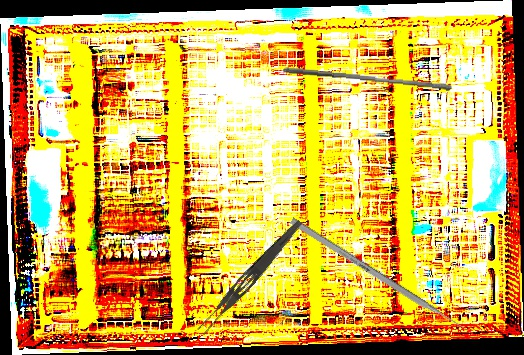Dressing Forceps: (194, 214, 305, 339)
Pusher: (289, 217, 477, 339), (282, 67, 453, 91)
